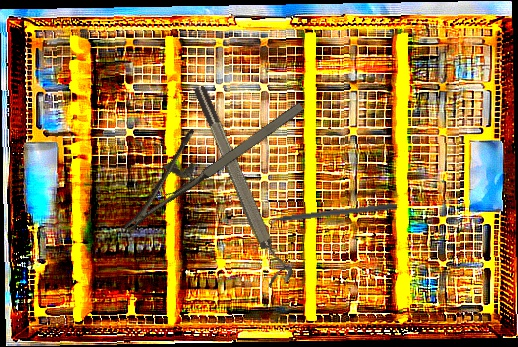Fixation Ring: (190, 80, 296, 289)
Needle Holder: (98, 72, 308, 234)
Pusher: (253, 201, 398, 225)
